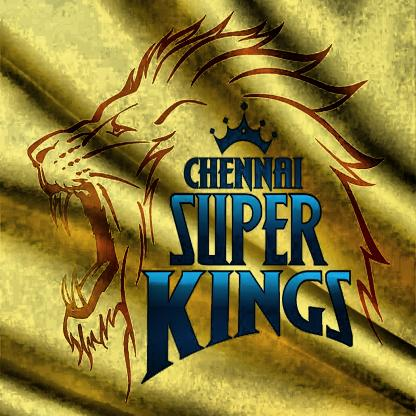Chennai Super kings: (20, 11, 393, 403)
